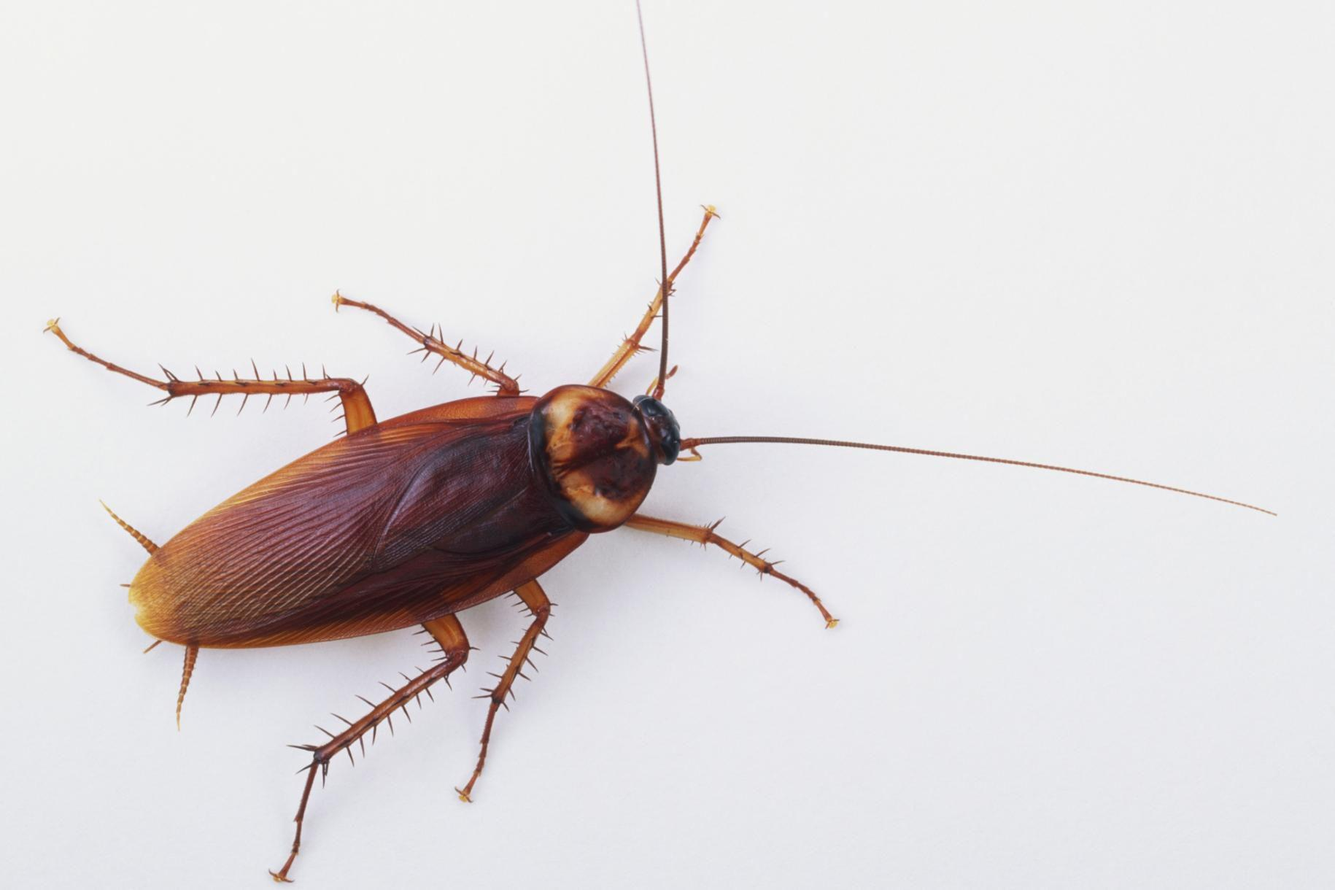cockroach: (112, 361, 692, 661)
